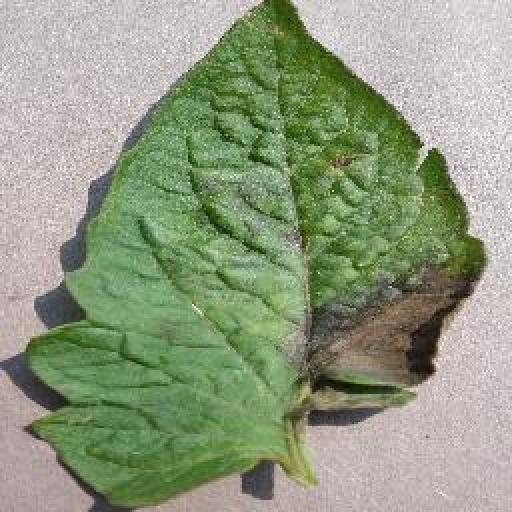disease_tomato: (21, 0, 487, 512)
